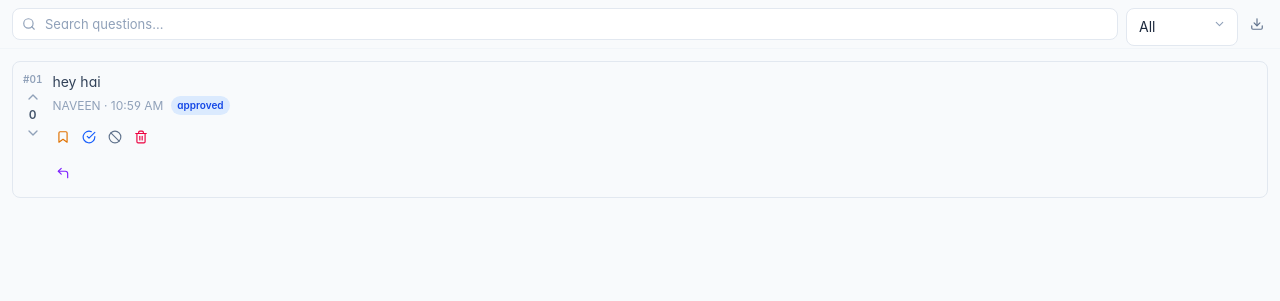
Test: duplicate submission › disables the button and says it is sending
The width and height of the screenshot is (1280, 301).
Click the button named "answer" at [63, 173], box x1=52 y1=159 x2=74 y2=187
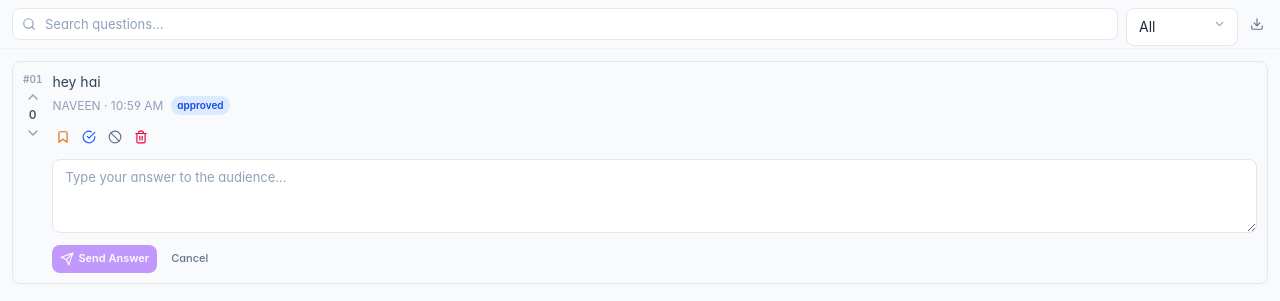
Type "Doors open at nine." into the text box named "answer the question" at [655, 196], box x1=52 y1=159 x2=1257 y2=233
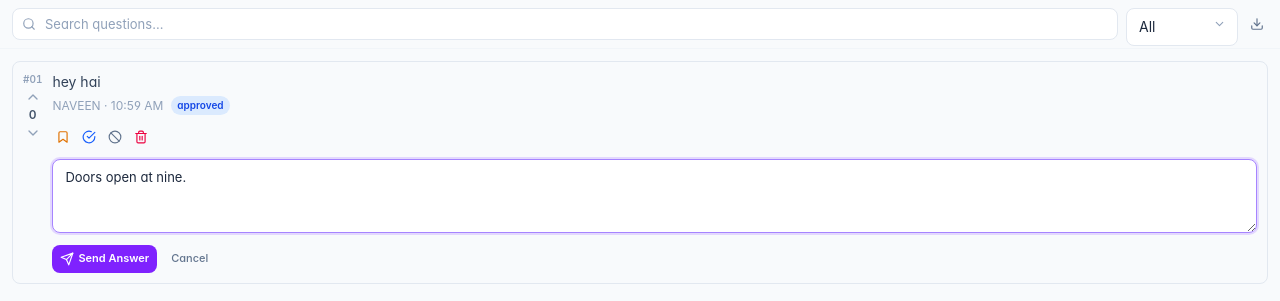
Click the button "Send Answer" at [105, 259], box x1=52 y1=245 x2=157 y2=273
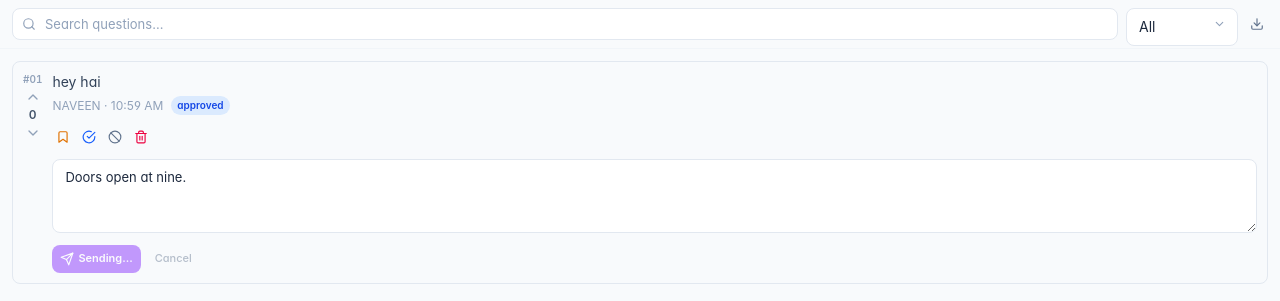
Expected: the button "Sending…" is disabled, x1=52 y1=245 x2=141 y2=273
